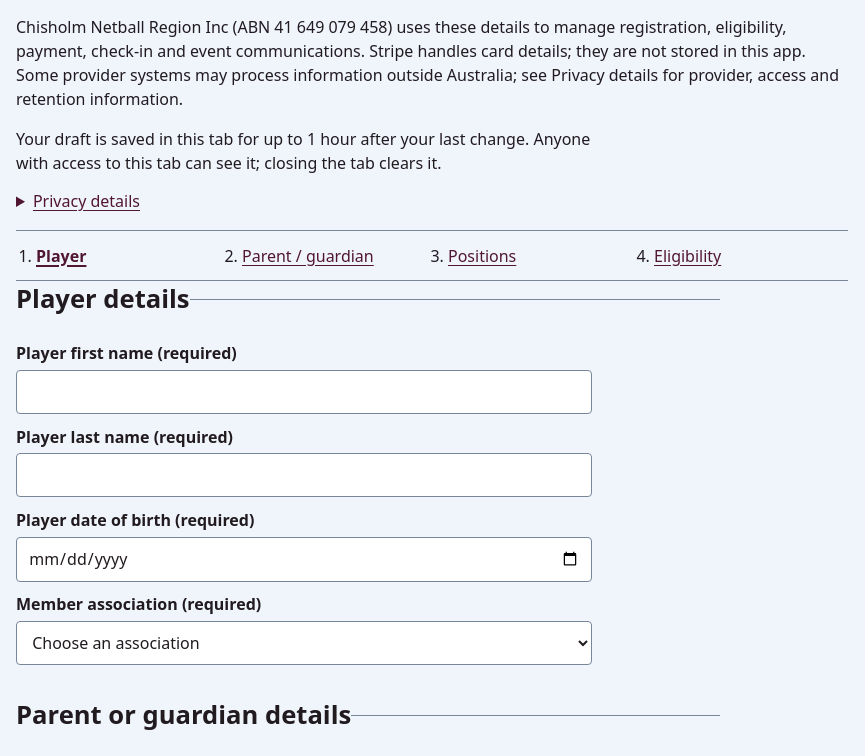
it: RegisterPage › keeps the form usable when this browser blocks session storage
This screenshot has width=865, height=756.
(page scrolled)
Type "Ada" into the field labelled "Player first name (required)" at (304, 392), box [16,370,592,414]
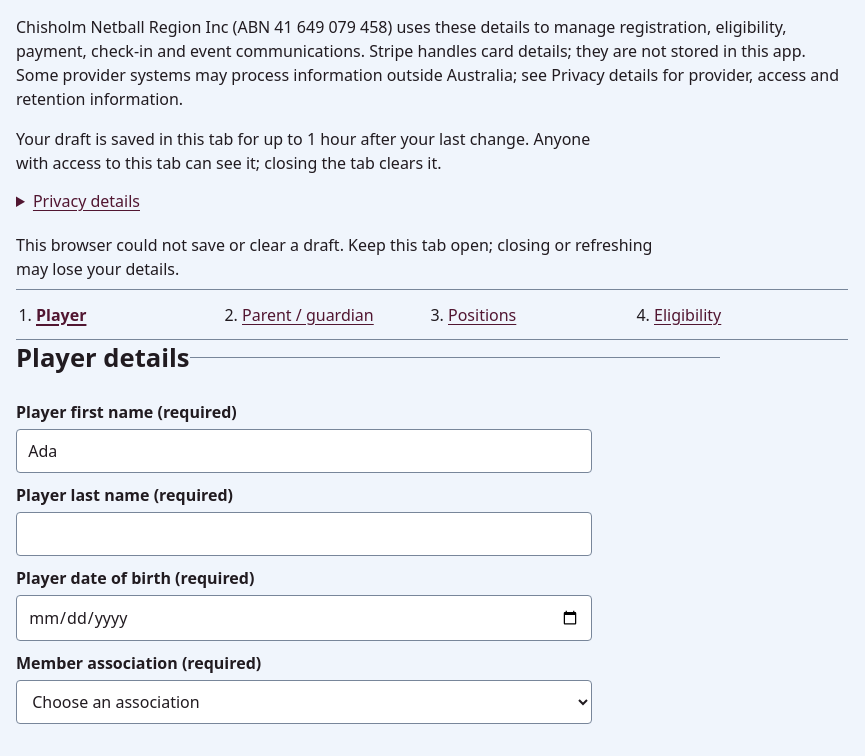
Now the message shows "could not save or clear a draft", box [16,234,652,280]
